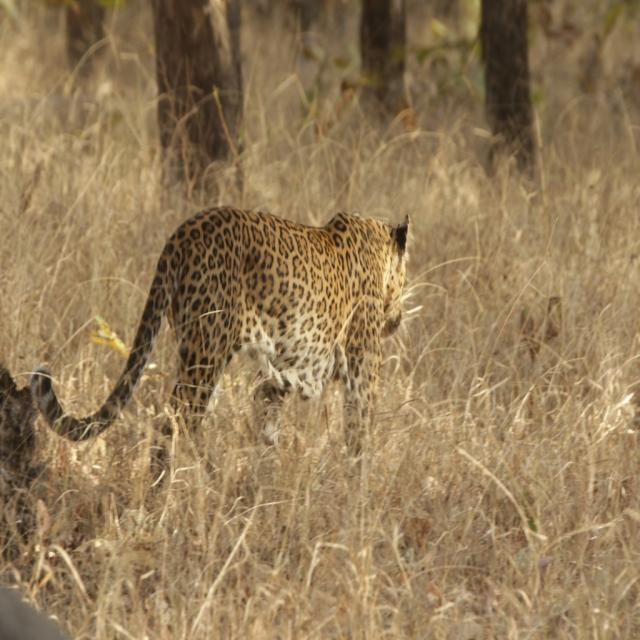Leopard: (31, 210, 414, 461)
